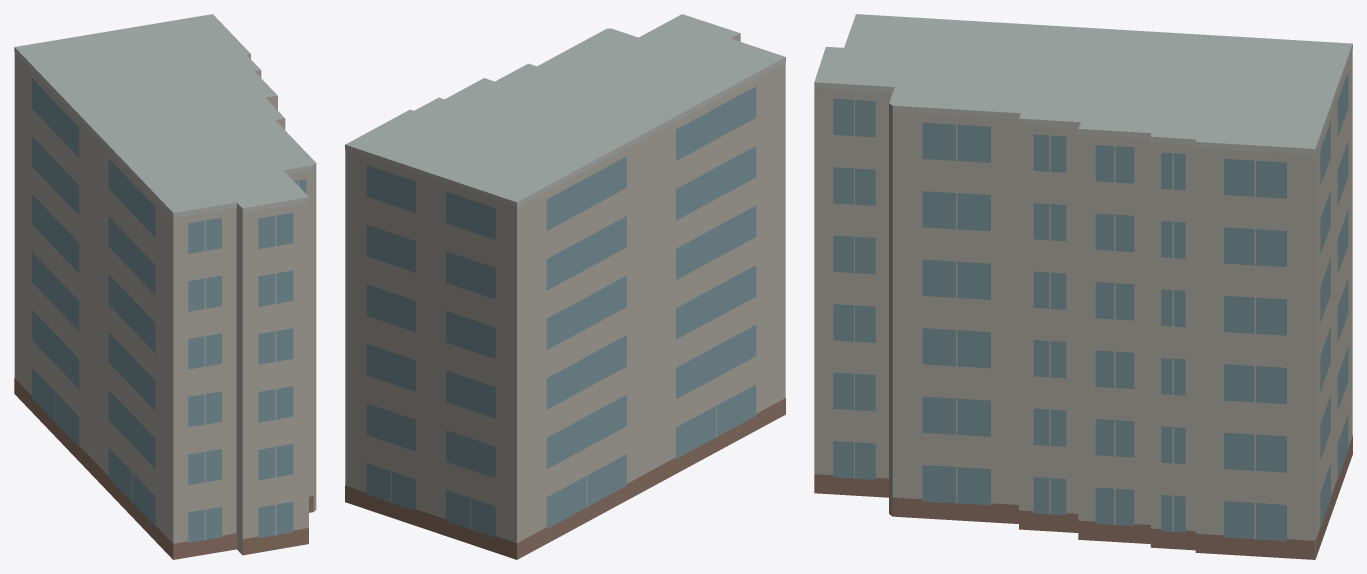
Rendered from survey-upis-32579348.glb.
The picture shows the model from 3 angles, left to right: view 1: azimuth 30°, elevation 25°; view 2: azimuth 150°, elevation 25°; view 3: azimuth 270°, elevation 25°; orthographic projection. The views are drawn at different scales.
Visible parts, largest first — view 1: survey-upis-32579348.tmp; view 2: survey-upis-32579348.tmp; view 3: survey-upis-32579348.tmp.
Boxes of the visible parts, box(x1,y1,x2,y2) form: survey-upis-32579348.tmp: box(14, 14, 316, 559); survey-upis-32579348.tmp: box(345, 14, 785, 559); survey-upis-32579348.tmp: box(814, 14, 1352, 559).
Size of the model in its own units: 12.13 by 17.2 by 20.44.
